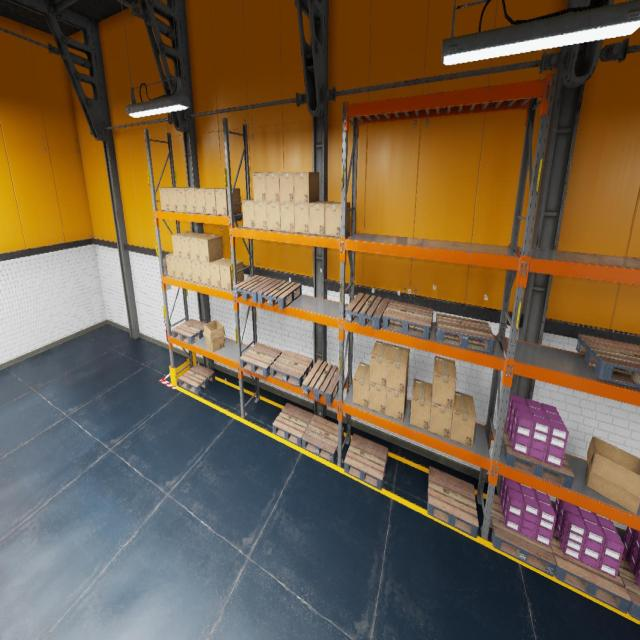box: (586, 436, 640, 514), (450, 391, 476, 448), (429, 384, 453, 439), (432, 356, 456, 410), (410, 378, 432, 431), (387, 345, 409, 393), (370, 340, 392, 388), (386, 376, 408, 422), (325, 202, 350, 237), (309, 202, 333, 236), (353, 362, 370, 408), (294, 172, 319, 203), (203, 319, 225, 352), (220, 260, 244, 290), (215, 189, 241, 215), (198, 235, 223, 262), (188, 233, 212, 261), (209, 258, 231, 287), (180, 233, 203, 259), (204, 188, 227, 214), (368, 382, 386, 415), (172, 232, 194, 258), (167, 187, 189, 212), (176, 187, 196, 212), (294, 202, 309, 234), (194, 188, 213, 213), (279, 172, 294, 202), (265, 172, 280, 201), (280, 202, 294, 232), (266, 202, 280, 231), (159, 187, 175, 211), (253, 172, 266, 201), (242, 199, 255, 228), (254, 202, 267, 230), (185, 188, 198, 213), (200, 261, 211, 285), (191, 260, 201, 283), (182, 258, 192, 281), (166, 252, 175, 277), (174, 257, 184, 279)
pallets: (551, 528, 631, 613), (490, 494, 556, 577), (501, 419, 574, 489), (427, 466, 479, 538), (576, 334, 640, 388), (344, 434, 388, 490), (435, 313, 495, 354), (382, 300, 433, 340), (302, 415, 344, 463), (272, 403, 314, 447), (302, 360, 344, 404), (345, 293, 390, 330), (270, 350, 313, 388), (240, 342, 282, 378), (618, 554, 640, 620), (258, 280, 302, 308), (233, 275, 276, 302), (178, 364, 215, 394), (171, 319, 206, 344)
